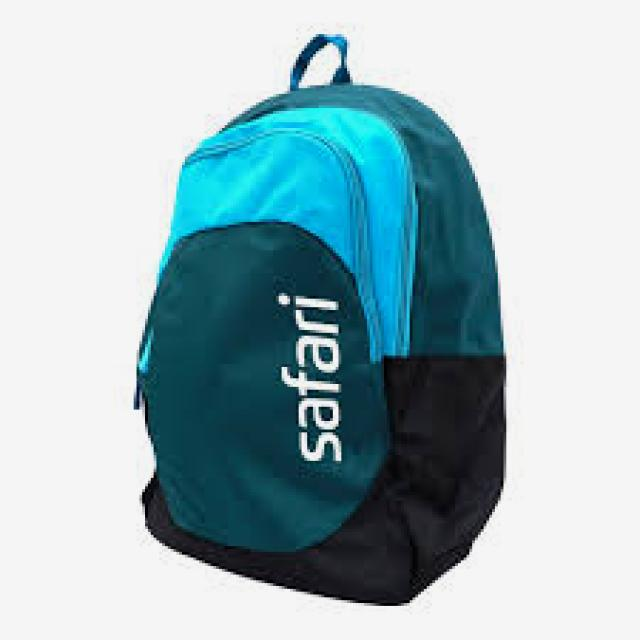backpack: (132, 33, 508, 607)
